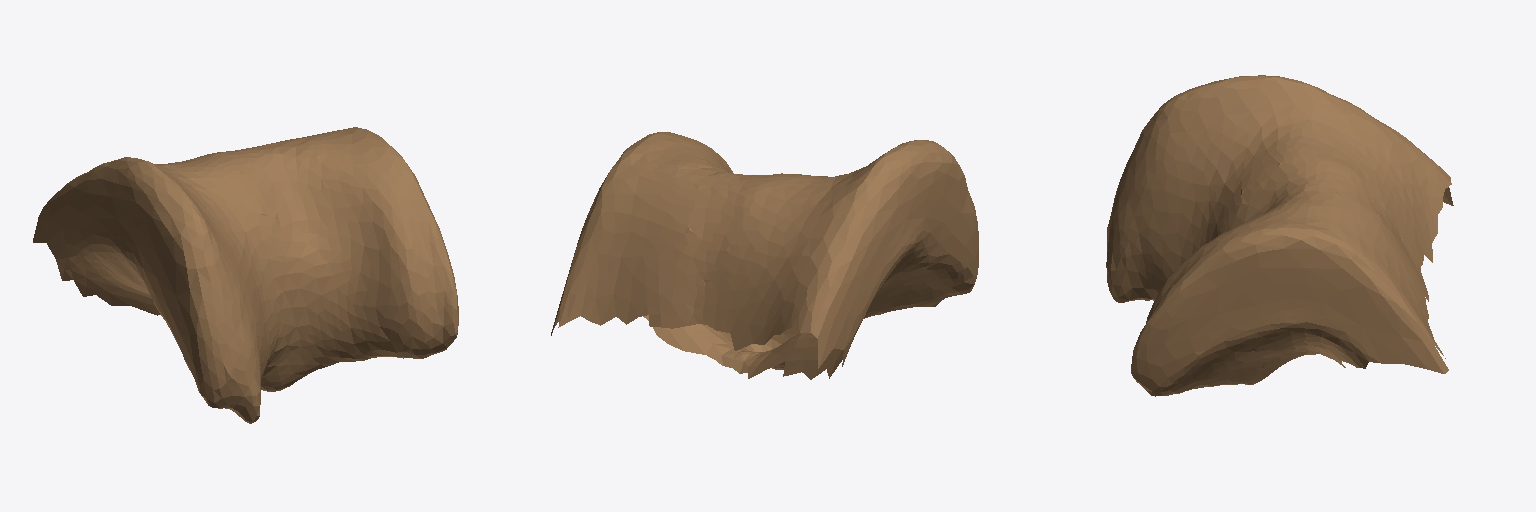
File: corpus_callosum_genu.obj
The picture shows the model from 3 angles: view 1: azimuth 30°, elevation 25°; view 2: azimuth 150°, elevation 25°; view 3: azimuth 270°, elevation 25°; orthographic projection.
Visible parts, largest first — view 1: Corpus_Callosum_Genu_Corpus_Callosum.002; view 2: Corpus_Callosum_Genu_Corpus_Callosum.002; view 3: Corpus_Callosum_Genu_Corpus_Callosum.002.
Part boxes in pixels (x1,y1,x2,y2): Corpus_Callosum_Genu_Corpus_Callosum.002: (33,127,458,423); Corpus_Callosum_Genu_Corpus_Callosum.002: (551,132,978,379); Corpus_Callosum_Genu_Corpus_Callosum.002: (1106,75,1453,396).
Bounding box in the file's own units: 72.15 × 60.93 × 77.4.